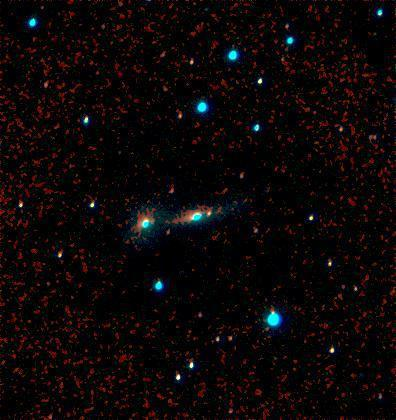star: (199, 202, 229, 232)
